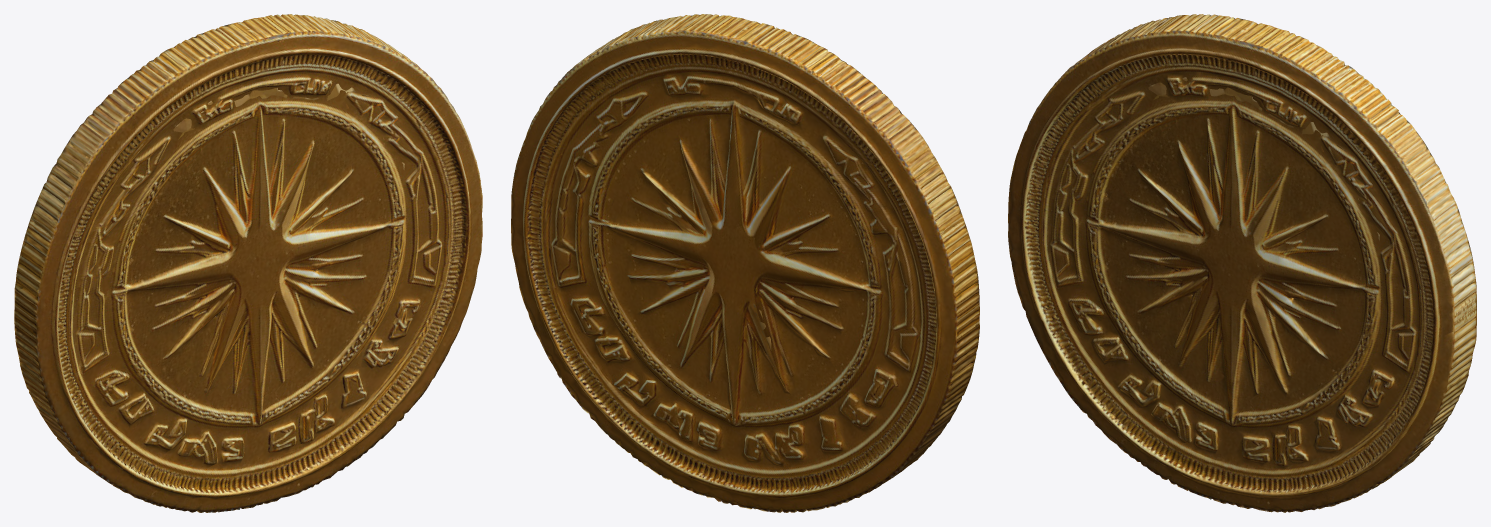
3 views of the same model, side by side, from view 1: azimuth 30°, elevation 25°; view 2: azimuth 150°, elevation 25°; view 3: azimuth 330°, elevation 25° (orthographic).
Size of the model in its own units: 1 by 1 by 0.1115.
Materials: 1 (1 with a texture image).
